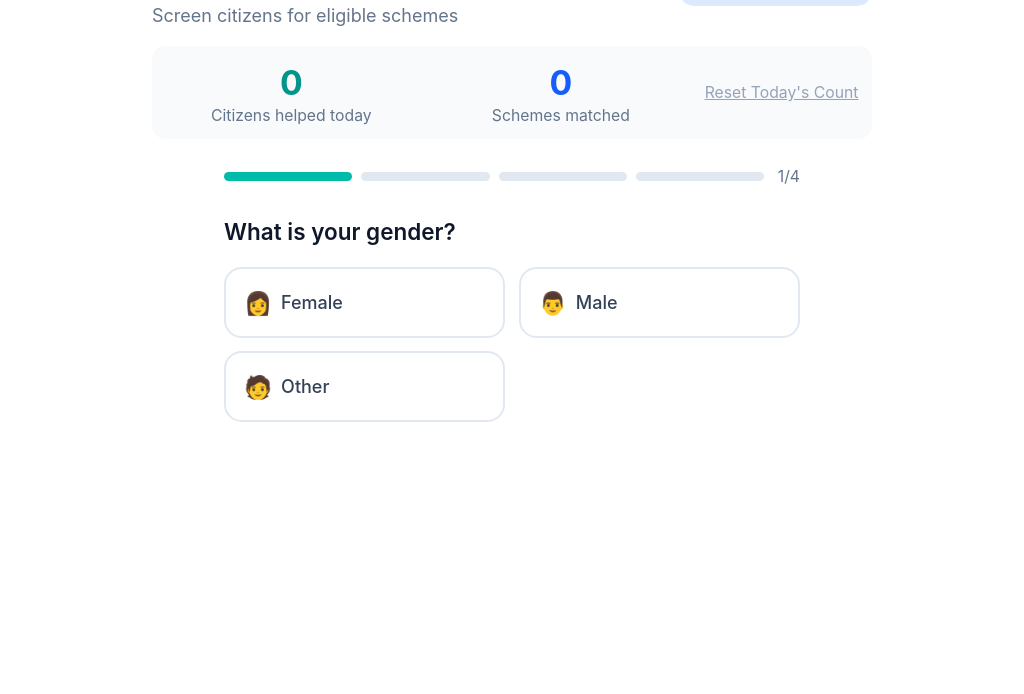
Scenario: CSCOperatorPage › Next Citizen resets wizard to step 1
Click the button "👩 Female". click: (312, 302)
box: [224,267,505,338]
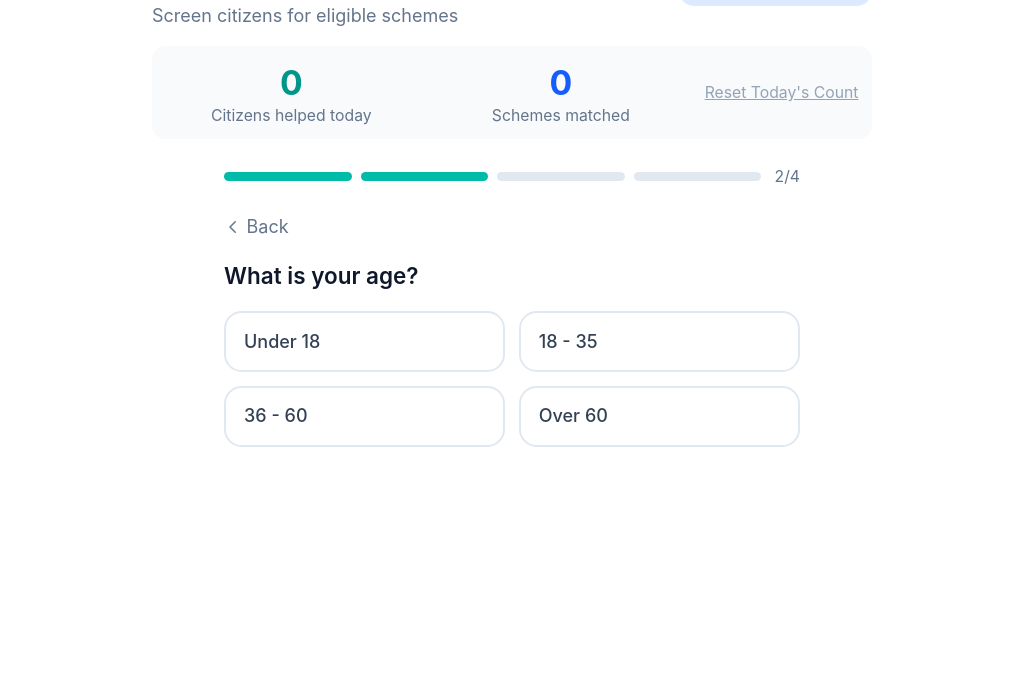
Click the button "18 - 35". click: (568, 341)
box: [519,311,800,372]
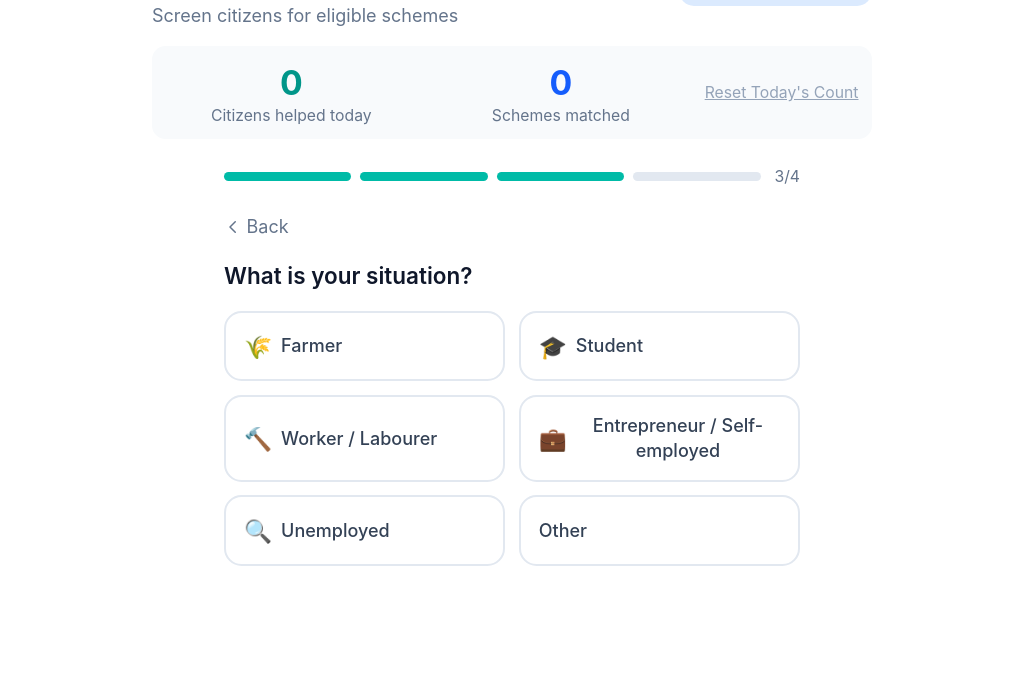
Click the button "🌾 Farmer". click: (312, 346)
box: [224,311,505,381]
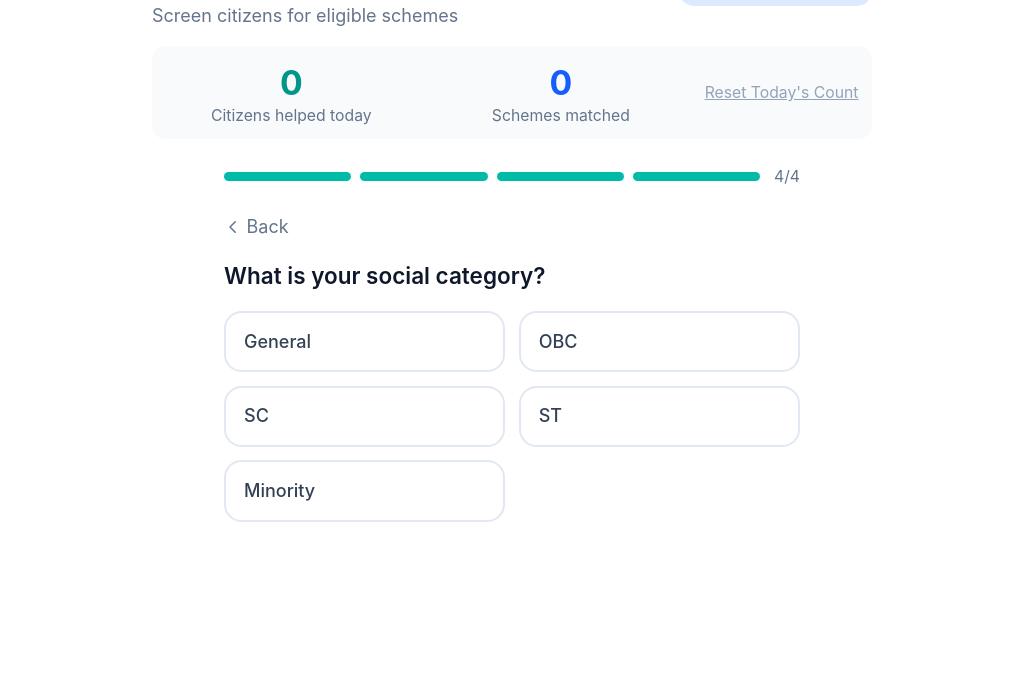
Click the button "SC". click: (256, 416)
box: [224,386,505,447]
(page scrolled)
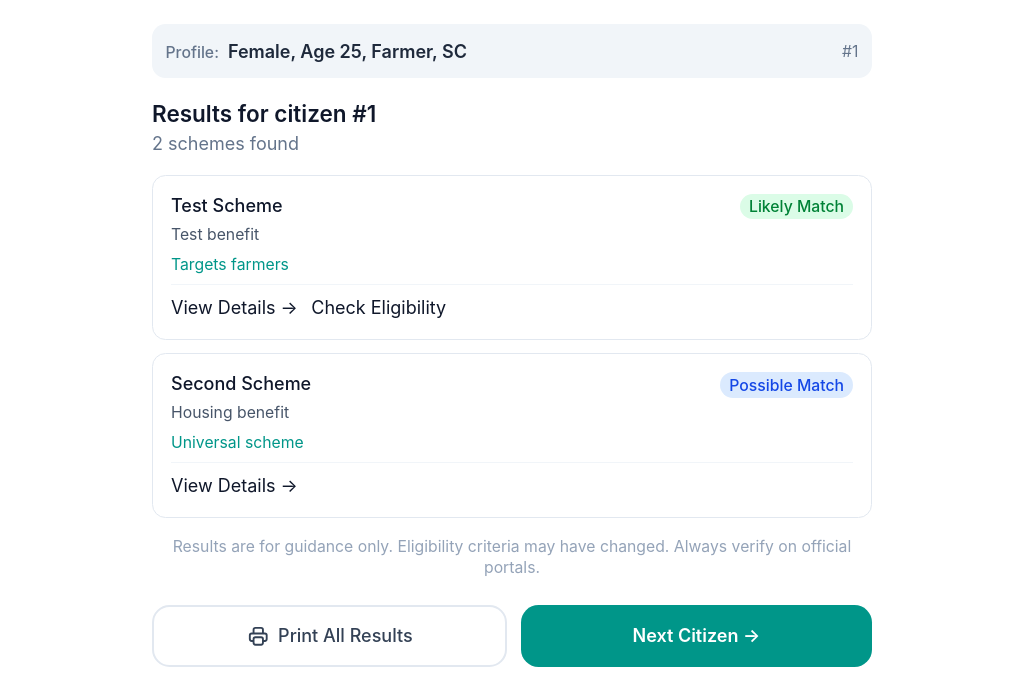
Expected: the heading "Test Scheme" is shown, [171,194,282,219]
Click the button "Next Citizen →". click: (696, 636)
box: [521,605,872,667]
(page scrolled)
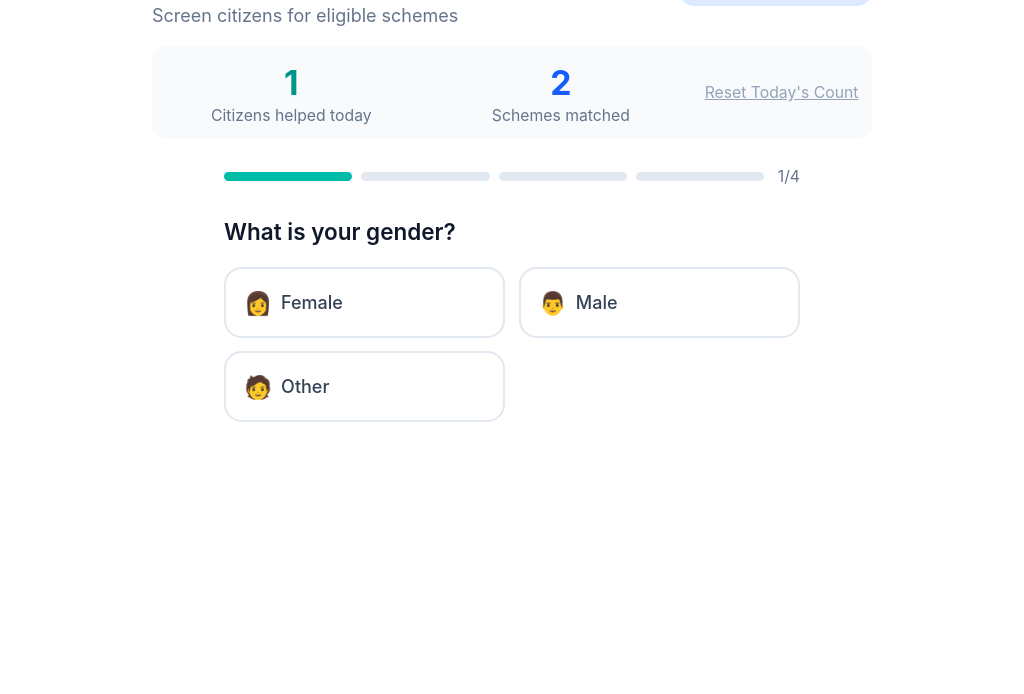
Expected: the heading "What is your gender?" is shown, [224,218,456,245]
